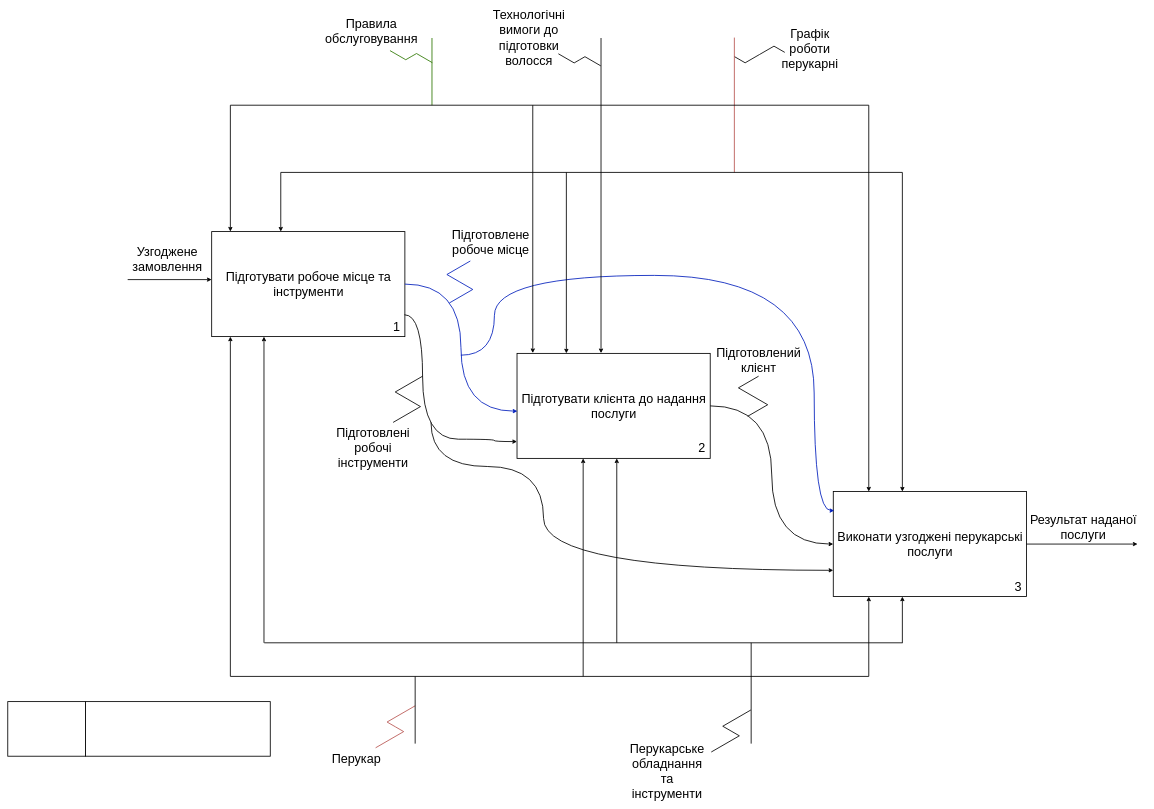
Some shapes in this 1154 by 809 pixel diagram are drawn without their labels. Here are the shapes that lost their labels. From the top down, the centre of each, then its label:
point (46, 728): A3
point (177, 728): Виконати перукарські послуги
